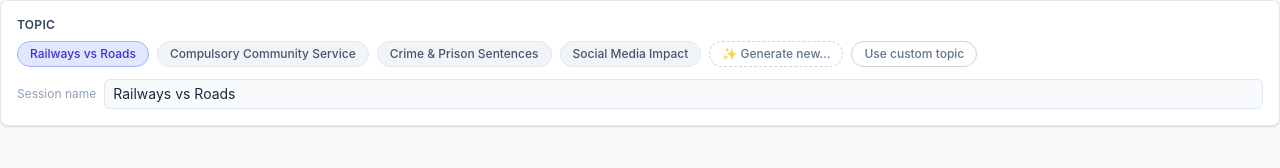
Test: TopicPicker › shows error message when generateTopic fails
Click the button "✨ Generate new…" at (776, 54), box [709, 41, 844, 67]
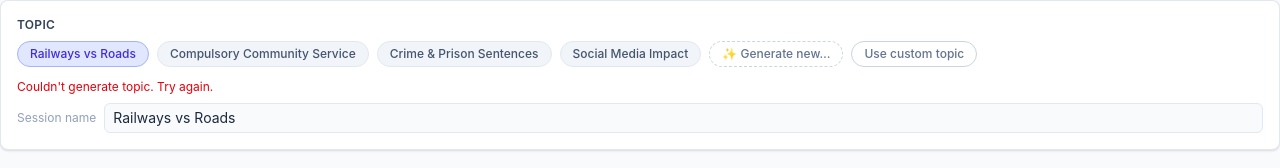
Result: the message shows "Couldn't generate topic" at [17, 79, 213, 94]
